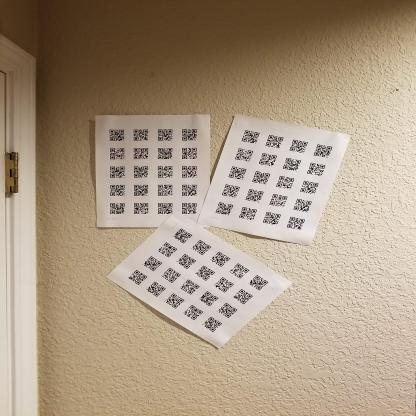qr: (267, 190, 291, 210), (288, 196, 318, 212), (213, 275, 237, 294), (157, 265, 183, 282), (209, 247, 231, 267), (274, 172, 297, 191), (228, 260, 251, 279), (304, 160, 329, 177), (243, 186, 265, 205), (144, 277, 166, 296), (179, 277, 201, 296), (183, 302, 205, 321), (172, 227, 195, 245), (265, 129, 285, 149), (214, 200, 237, 217), (232, 288, 255, 305), (280, 154, 304, 170), (312, 141, 334, 158), (157, 241, 179, 258), (240, 127, 260, 145), (199, 287, 219, 305), (251, 169, 272, 186), (220, 181, 241, 198), (127, 268, 148, 285), (175, 252, 197, 268), (165, 291, 184, 309), (257, 149, 278, 165), (192, 238, 213, 254), (250, 272, 268, 290), (156, 200, 175, 217), (287, 214, 306, 231), (227, 164, 250, 178), (139, 256, 162, 270), (238, 205, 258, 221), (219, 301, 239, 317), (107, 200, 128, 215), (263, 208, 280, 226), (198, 263, 215, 281), (182, 124, 198, 142), (289, 138, 307, 154), (299, 180, 318, 195), (234, 146, 255, 159), (181, 145, 199, 160), (203, 316, 222, 330), (107, 165, 127, 178), (157, 165, 174, 180), (182, 164, 199, 179), (109, 182, 126, 197), (133, 201, 150, 216), (182, 200, 199, 215), (157, 182, 175, 196), (132, 183, 151, 196), (180, 183, 199, 196), (132, 126, 149, 140), (157, 126, 174, 140), (108, 128, 125, 141), (109, 145, 126, 158), (134, 164, 149, 177), (157, 147, 173, 159), (134, 146, 150, 157)
